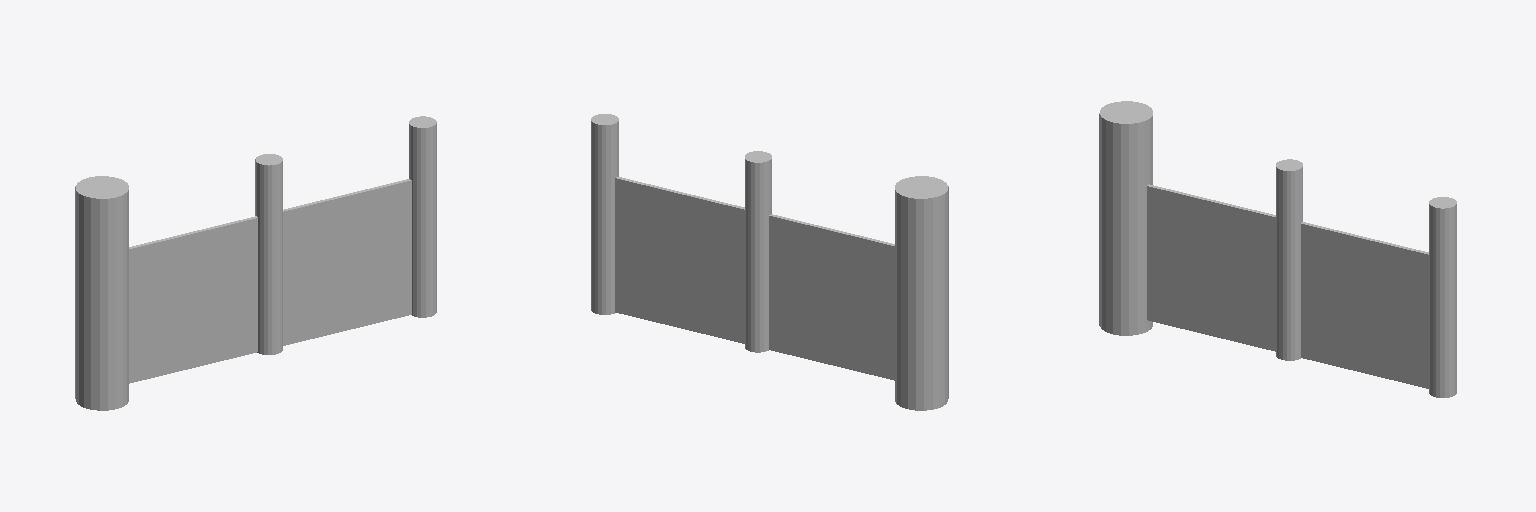
File: walldouble20.obj
3 views of the same model, side by side, from view 1: azimuth 30°, elevation 25°; view 2: azimuth 150°, elevation 25°; view 3: azimuth 330°, elevation 25° (orthographic).
Parts seen in each view (by area): view 1: walldouble20; view 2: walldouble20; view 3: walldouble20.
Part boxes in pixels (x1,y1,x2,y2): walldouble20: (75,116,436,410); walldouble20: (591,114,948,410); walldouble20: (1099,101,1456,397).
Bounding box in the file's own units: 48.09 × 27.5 × 6.39.